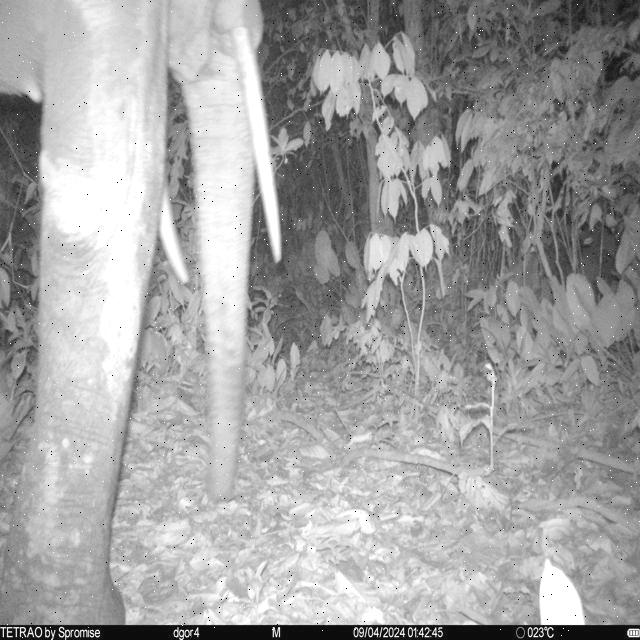elephant: (0, 0, 283, 624)
tusk: (230, 28, 282, 264), (156, 190, 190, 286)
